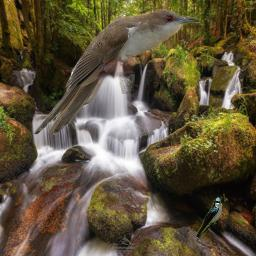Cuckoo: (33, 9, 200, 135)
Swallow: (195, 197, 223, 240)
